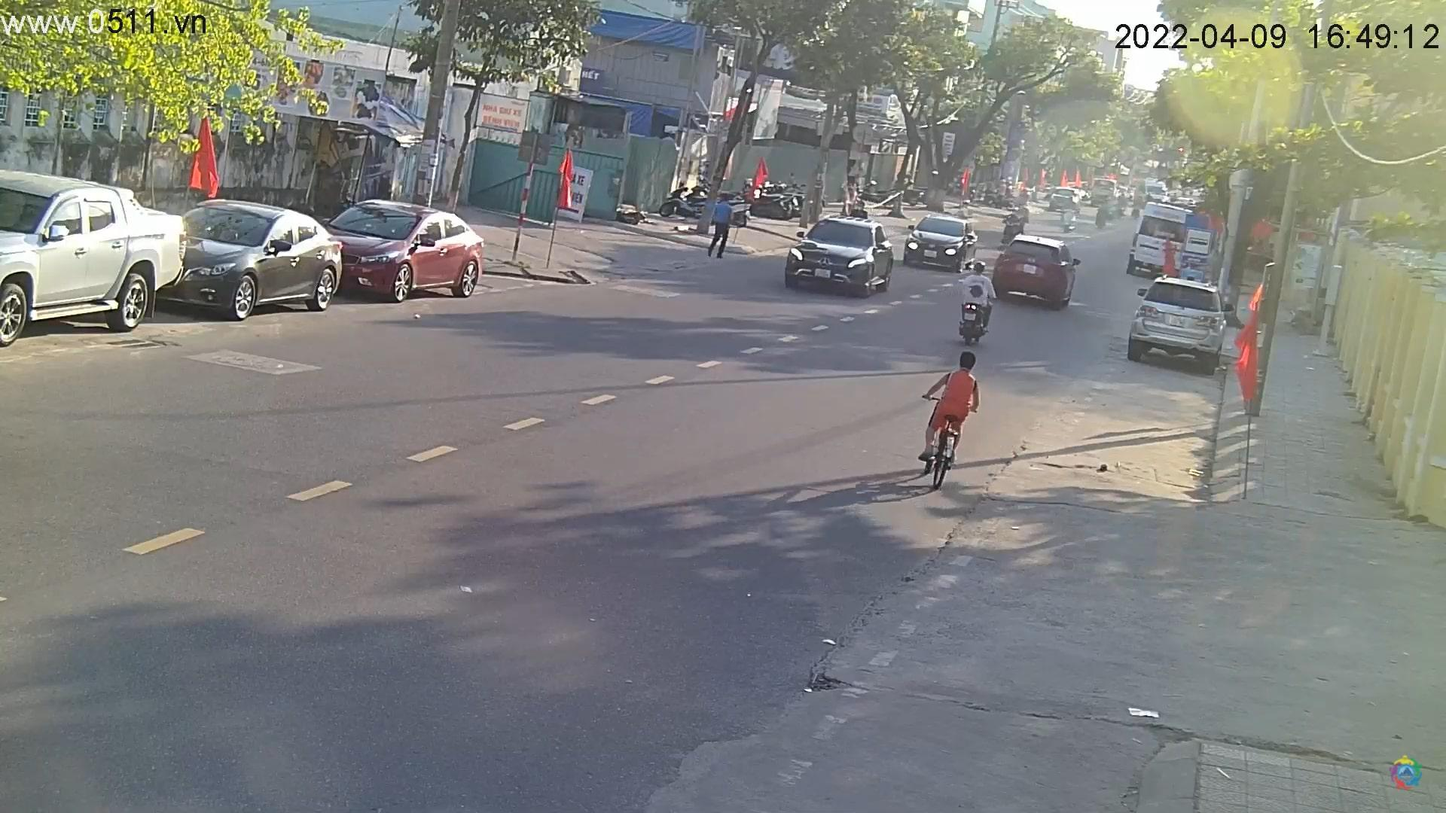car: (2, 169, 188, 352), (166, 202, 350, 322), (319, 199, 489, 305), (786, 218, 902, 298), (906, 216, 983, 271)
